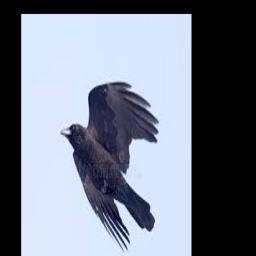Crow: (60, 79, 159, 250)
